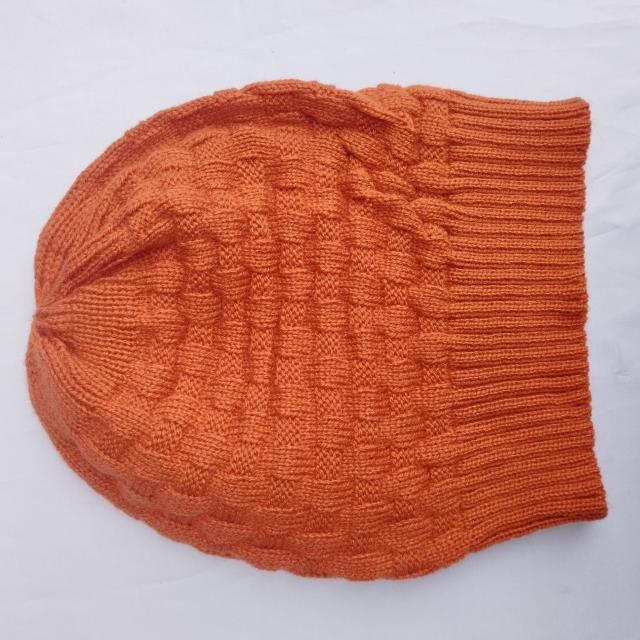Gorro: (24, 77, 608, 582)
